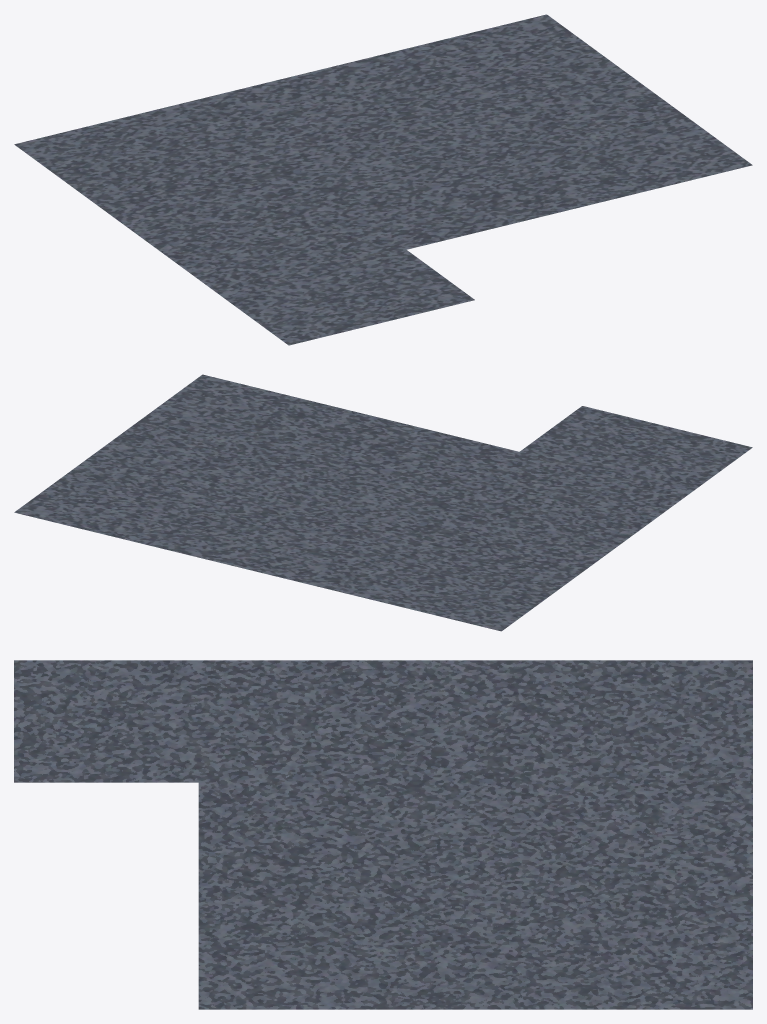
The model's file is floor_exportedTest.fbx.
3 renders of one model, top to bottom at view 1: azimuth 30°, elevation 25°; view 2: azimuth 150°, elevation 25°; view 3: azimuth 270°, elevation 25°, orthographic. The views are drawn at different scales.
Visible parts, largest first — view 1: Floor; view 2: Floor; view 3: Floor.
Boxes of the visible parts, x1=… form: Floor: x1=14, y1=14, x2=752, y2=345; Floor: x1=14, y1=374, x2=752, y2=631; Floor: x1=14, y1=660, x2=752, y2=1009.
Bounding box in the file's own units: 54.75 × 2.99e-15 × 48.9.
